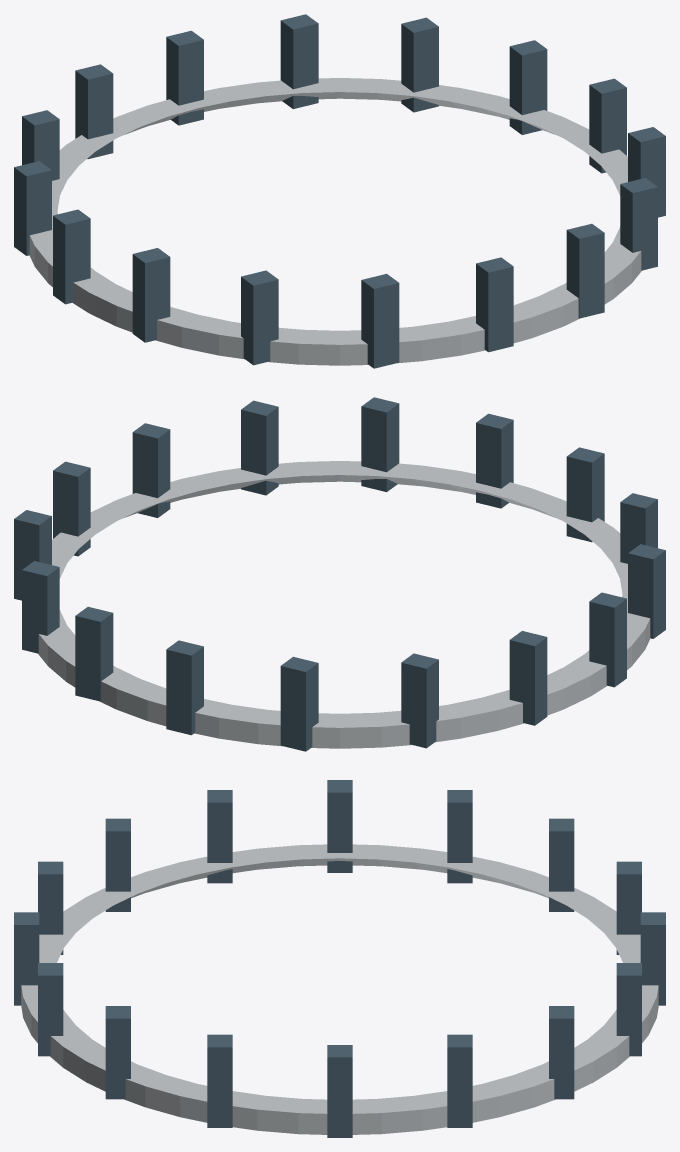
Rendered from 22_L76_ProtectedAnodeBasket.glb.
3 views of the same model, one above another, from view 1: azimuth 30°, elevation 25°; view 2: azimuth 150°, elevation 25°; view 3: azimuth 270°, elevation 25° (orthographic).
Visible parts, largest first — view 1: ProtectedAnodeBasket_Node_0000, ProtectedAnodeBasket_Node_0006, ProtectedAnodeBasket_Node_0004, ProtectedAnodeBasket_Node_0005, ProtectedAnodeBasket_Node_0007, ProtectedAnodeBasket_Node_0008, ProtectedAnodeBasket_Node_0009, ProtectedAnodeBasket_Node_0014, ProtectedAnodeBasket_Node_0016, ProtectedAnodeBasket_Node_0015, ProtectedAnodeBasket_Node_0003, ProtectedAnodeBasket_Node_0013 (+5 smaller); view 2: ProtectedAnodeBasket_Node_0000, ProtectedAnodeBasket_Node_0012, ProtectedAnodeBasket_Node_0013, ProtectedAnodeBasket_Node_0014, ProtectedAnodeBasket_Node_0011, ProtectedAnodeBasket_Node_0010, ProtectedAnodeBasket_Node_0009, ProtectedAnodeBasket_Node_0004, ProtectedAnodeBasket_Node_0002, ProtectedAnodeBasket_Node_0003, ProtectedAnodeBasket_Node_0005, ProtectedAnodeBasket_Node_0015 (+5 smaller); view 3: ProtectedAnodeBasket_Node_0000, ProtectedAnodeBasket_Node_0002, ProtectedAnodeBasket_Node_0016, ProtectedAnodeBasket_Node_0001, ProtectedAnodeBasket_Node_0003, ProtectedAnodeBasket_Node_0015, ProtectedAnodeBasket_Node_0008, ProtectedAnodeBasket_Node_0010, ProtectedAnodeBasket_Node_0009, ProtectedAnodeBasket_Node_0004, ProtectedAnodeBasket_Node_0014, ProtectedAnodeBasket_Node_0007 (+5 smaller).
Boxes of the visible parts, left/top/right/bottom form: ProtectedAnodeBasket_Node_0000: left=29, top=78, right=641, bottom=365; ProtectedAnodeBasket_Node_0006: left=361, top=273, right=399, bottom=368; ProtectedAnodeBasket_Node_0004: left=566, top=223, right=604, bottom=318; ProtectedAnodeBasket_Node_0005: left=476, top=257, right=513, bottom=352; ProtectedAnodeBasket_Node_0007: left=241, top=270, right=278, bottom=365; ProtectedAnodeBasket_Node_0008: left=132, top=248, right=170, bottom=342; ProtectedAnodeBasket_Node_0009: left=53, top=209, right=90, bottom=304; ProtectedAnodeBasket_Node_0014: left=280, top=14, right=318, bottom=109; ProtectedAnodeBasket_Node_0016: left=509, top=40, right=547, bottom=134; ProtectedAnodeBasket_Node_0015: left=401, top=17, right=438, bottom=112; ProtectedAnodeBasket_Node_0003: left=620, top=178, right=657, bottom=270; ProtectedAnodeBasket_Node_0013: left=166, top=30, right=203, bottom=125; ProtectedAnodeBasket_Node_0000: left=38, top=461, right=650, bottom=748; ProtectedAnodeBasket_Node_0012: left=280, top=656, right=318, bottom=751; ProtectedAnodeBasket_Node_0013: left=166, top=640, right=203, bottom=735; ProtectedAnodeBasket_Node_0014: left=75, top=606, right=113, bottom=701; ProtectedAnodeBasket_Node_0011: left=401, top=653, right=438, bottom=748; ProtectedAnodeBasket_Node_0010: left=509, top=631, right=547, bottom=725; ProtectedAnodeBasket_Node_0009: left=589, top=592, right=626, bottom=687; ProtectedAnodeBasket_Node_0004: left=361, top=397, right=399, bottom=492; ProtectedAnodeBasket_Node_0002: left=132, top=423, right=170, bottom=517; ProtectedAnodeBasket_Node_0003: left=241, top=400, right=278, bottom=495; ProtectedAnodeBasket_Node_0005: left=476, top=413, right=513, bottom=508; ProtectedAnodeBasket_Node_0015: left=22, top=561, right=59, bottom=653; ProtectedAnodeBasket_Node_0000: left=21, top=844, right=658, bottom=1134; ProtectedAnodeBasket_Node_0002: left=207, top=1034, right=232, bottom=1127; ProtectedAnodeBasket_Node_0016: left=447, top=1034, right=472, bottom=1127; ProtectedAnodeBasket_Node_0001: left=327, top=1045, right=352, bottom=1137; ProtectedAnodeBasket_Node_0003: left=105, top=1006, right=130, bottom=1099; ProtectedAnodeBasket_Node_0015: left=549, top=1006, right=574, bottom=1099; ProtectedAnodeBasket_Node_0008: left=207, top=790, right=232, bottom=883; ProtectedAnodeBasket_Node_0010: left=447, top=790, right=472, bottom=883; ProtectedAnodeBasket_Node_0009: left=327, top=780, right=352, bottom=872; ProtectedAnodeBasket_Node_0004: left=38, top=963, right=63, bottom=1056; ProtectedAnodeBasket_Node_0014: left=616, top=963, right=641, bottom=1056; ProtectedAnodeBasket_Node_0007: left=105, top=818, right=130, bottom=911.
Bounding box in the file's own units: 3.1 × 0.425 × 3.08.
